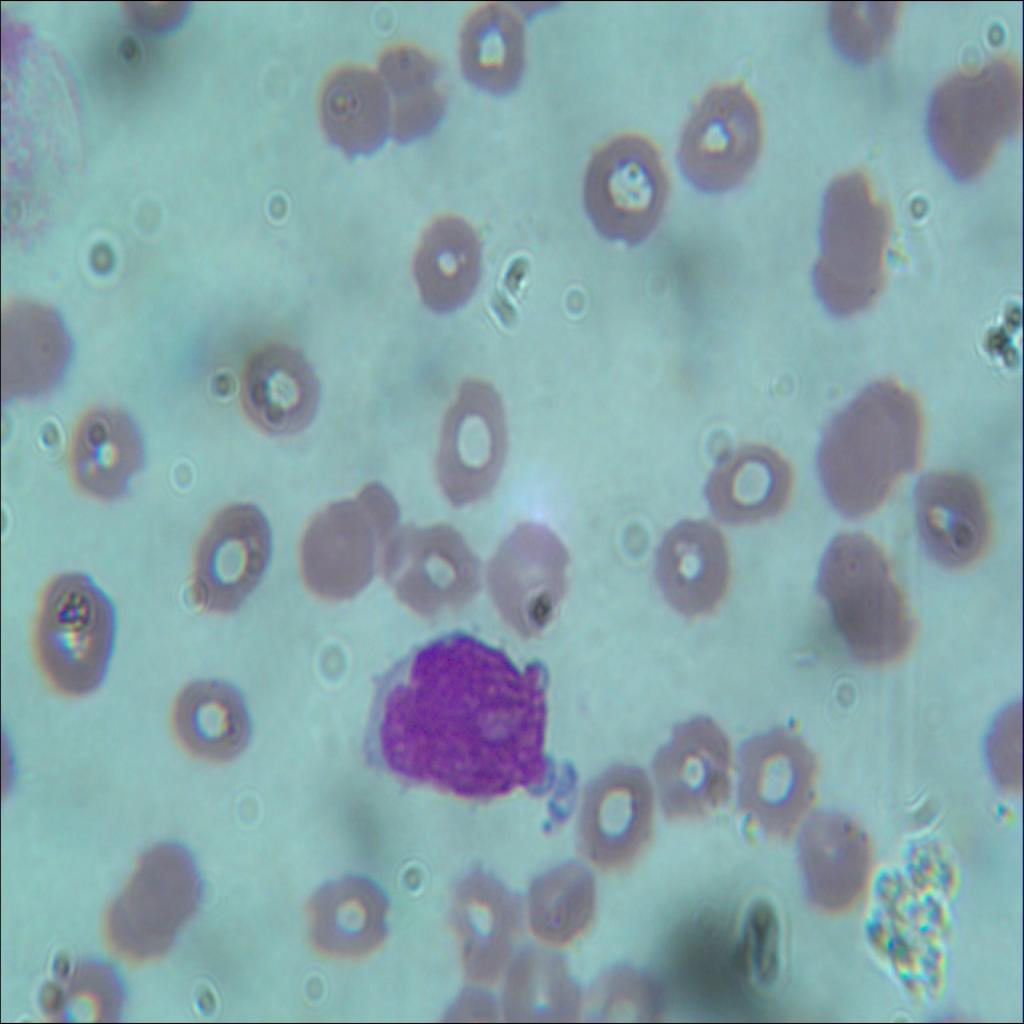Eritrosit: (90, 842, 202, 968), (179, 484, 276, 621), (571, 117, 663, 252), (31, 568, 118, 707), (813, 167, 893, 317), (398, 207, 498, 325), (438, 858, 524, 995), (568, 760, 662, 879), (423, 384, 513, 508), (366, 35, 458, 154), (649, 509, 738, 631), (784, 799, 876, 914), (730, 715, 816, 835), (928, 62, 1013, 183), (672, 84, 762, 195), (486, 520, 573, 634), (702, 429, 798, 532), (63, 397, 155, 504), (913, 458, 990, 584), (308, 58, 396, 165), (0, 284, 78, 404), (844, 378, 934, 481), (176, 664, 254, 782), (653, 711, 739, 818), (818, 408, 892, 525), (496, 931, 588, 1023), (810, 504, 881, 621), (392, 509, 470, 615), (515, 861, 606, 950), (453, 0, 530, 105), (298, 508, 382, 602), (241, 340, 319, 438), (309, 878, 396, 962), (348, 481, 415, 580), (835, 591, 919, 669), (50, 950, 130, 1023), (819, 0, 894, 75)
Limfoblast: (358, 630, 563, 831)
Platelet: (774, 696, 800, 738)
